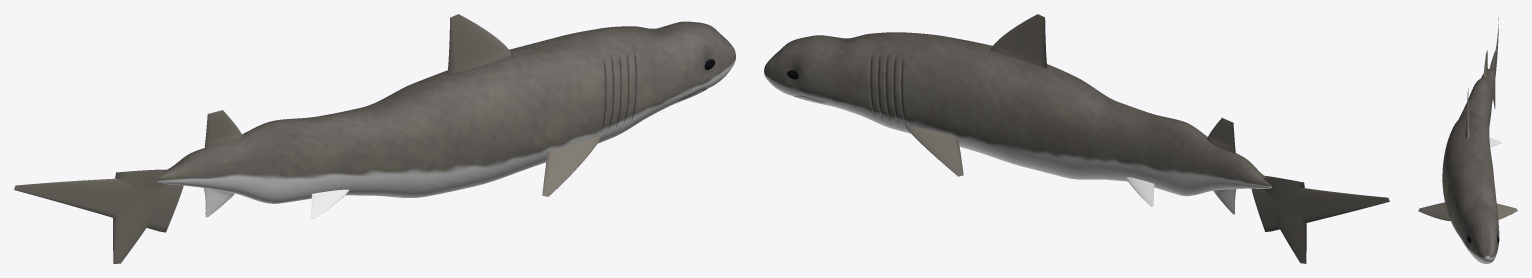
File: common_smooth_hound.glb
3 views of the same model, side by side, from view 1: azimuth 30°, elevation 25°; view 2: azimuth 150°, elevation 25°; view 3: azimuth 270°, elevation 25° (orthographic). The views are drawn at different scales.
Parts seen in each view (by area): view 1: common_smooth_hound_Body, common_smooth_hound_Fins; view 2: common_smooth_hound_Body, common_smooth_hound_Fins; view 3: common_smooth_hound_Body, common_smooth_hound_Fins.
Boxes of the visible parts, box(x1,y1,x2,y2) form: common_smooth_hound_Body: box(157, 21, 735, 203); common_smooth_hound_Fins: box(14, 14, 601, 263); common_smooth_hound_Body: box(764, 32, 1271, 196); common_smooth_hound_Fins: box(905, 14, 1389, 263); common_smooth_hound_Body: box(1442, 68, 1499, 263); common_smooth_hound_Fins: box(1418, 17, 1517, 221).
Size of the model in its own units: 1.1 by 0.2773 by 0.2094.
Materials: 3 (1 with a texture image).
